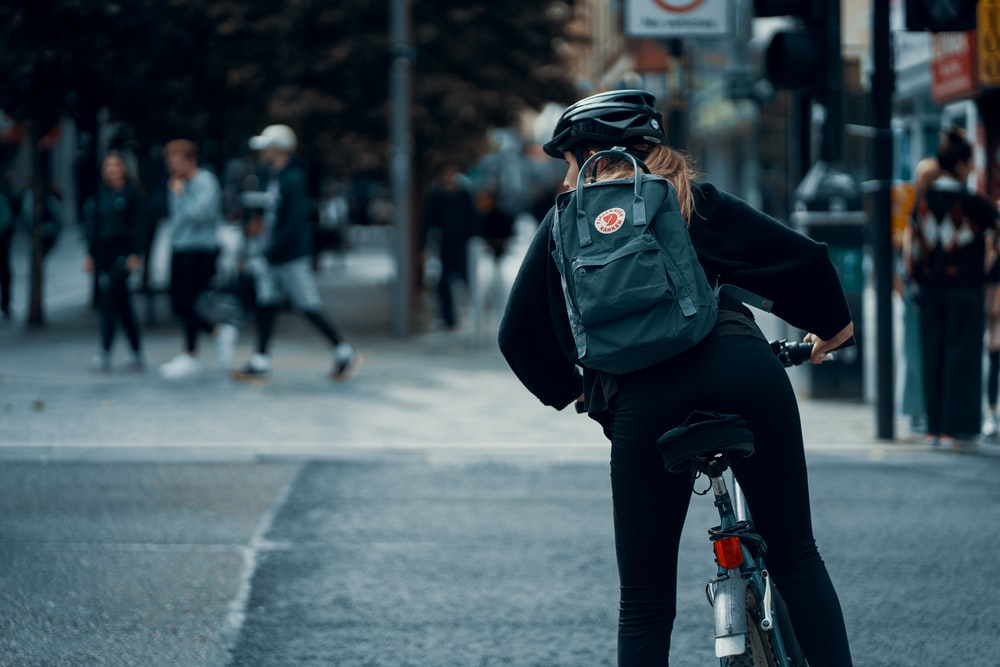helmet: (542, 90, 665, 186)
